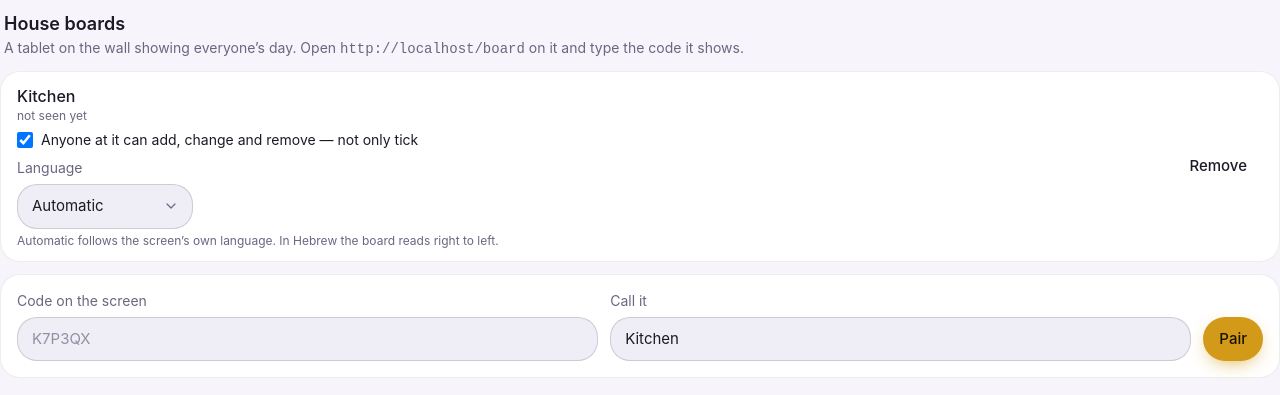
Test case: house boards › gives each screen its language, and says when it is saved
This screenshot has width=1280, height=395.
Select "עברית" in the dropdown labelled "Language": coordinates (105, 206) 17,184 -> 193,228
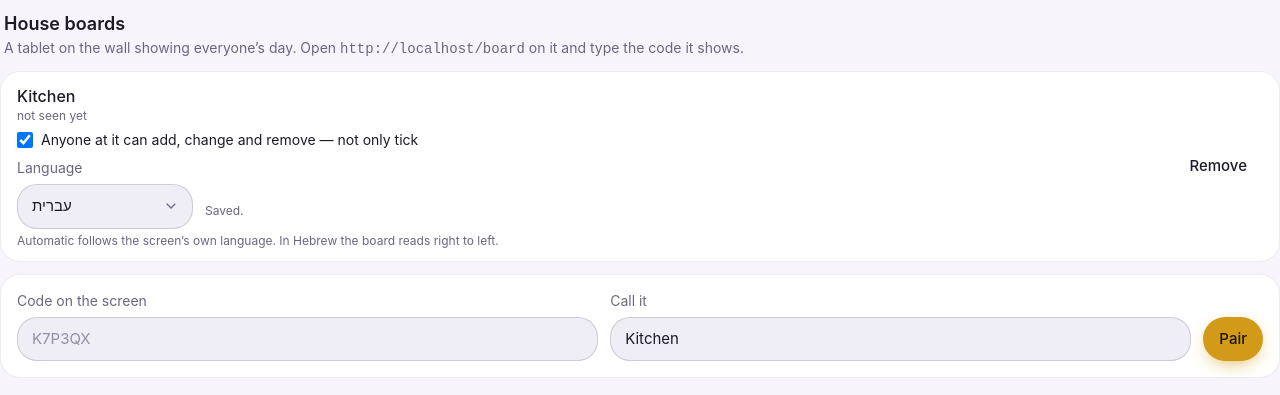
Expected: the message reads "Saved.", 205,202 -> 244,218
